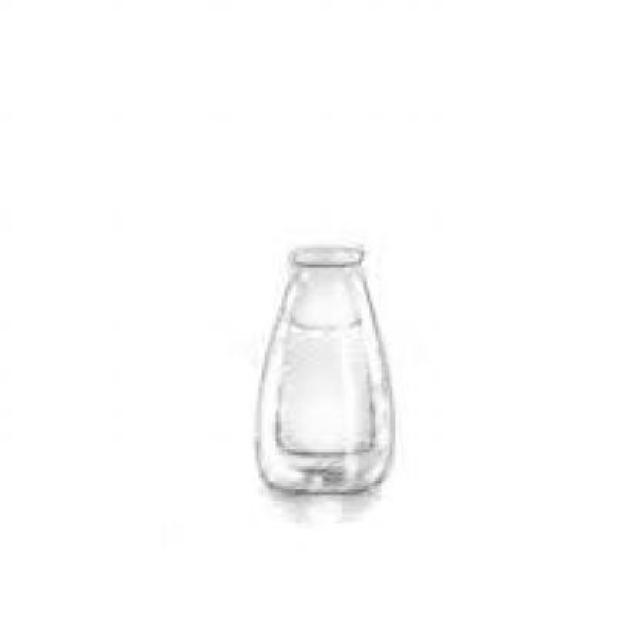kaca: (254, 248, 392, 497)
